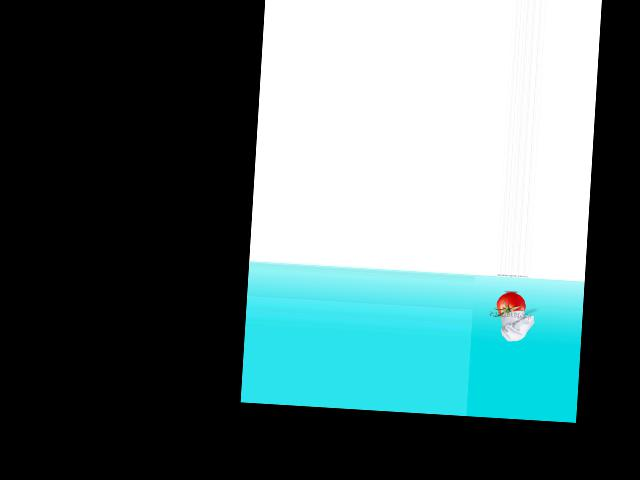tomato: (496, 292, 526, 317)
